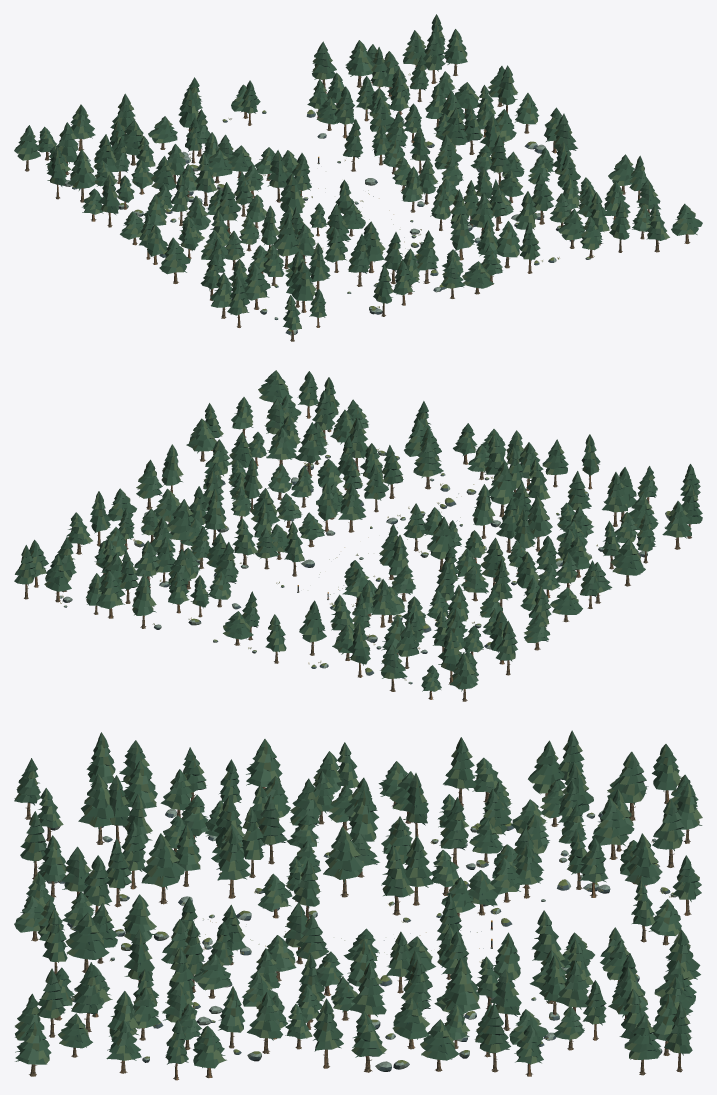
The model's file is woodland.glb.
The picture shows the model from 3 angles, top to bottom: view 1: azimuth 30°, elevation 25°; view 2: azimuth 150°, elevation 25°; view 3: azimuth 270°, elevation 25°; orthographic projection. The views are drawn at different scales.
Visible parts, largest first — view 1: Pine4, Pine40, Pine10, Pine124, Pine52, Pine109, Pine175, Pine25, Pine86, Pine111, Pine73, Pine65 (+43 smaller); view 2: Pine10, Pine76, Pine73, Pine142, Pine124, Pine52, Pine67, Pine12, Pine96, Pine93, Pine1, Pine111 (+53 smaller); view 3: Pine76, Pine73, Pine109, Pine142, Pine43, Pine40, Pine75, Pine15, Pine144, Pine67, Pine42, Pine4 (+124 smaller).
Boxes of the visible parts, left/top/right/bottom form: Pine4: left=67, top=149, right=96, bottom=202; Pine40: left=290, top=261, right=316, bottom=312; Pine10: left=159, top=237, right=190, bottom=283; Pine124: left=345, top=40, right=372, bottom=87; Pine52: left=273, top=216, right=300, bottom=269; Pine109: left=496, top=221, right=520, bottom=268; Pine175: left=671, top=203, right=702, bottom=243; Pine25: left=244, top=263, right=270, bottom=309; Pine86: left=415, top=230, right=438, bottom=283; Pine111: left=312, top=41, right=336, bottom=93; Pine73: left=279, top=174, right=305, bottom=213; Pine65: left=348, top=234, right=370, bottom=286; Pine10: left=611, top=538, right=645, bottom=586; Pine76: left=488, top=461, right=515, bottom=517; Pine73: left=427, top=517, right=457, bottom=571; Pine142: left=167, top=499, right=195, bottom=552; Pine124: left=96, top=570, right=125, bottom=618; Pine52: left=527, top=496, right=552, bottom=551; Pine67: left=299, top=600, right=326, bottom=655; Pine12: left=662, top=501, right=691, bottom=549; Pine96: left=413, top=441, right=443, bottom=489; Pine93: left=338, top=483, right=366, bottom=532; Pine1: left=449, top=652, right=478, bottom=701; Pine111: left=132, top=574, right=156, bottom=628; Pine76: left=141, top=833, right=184, bottom=904; Pine73: left=323, top=826, right=365, bottom=897; Pine109: left=65, top=912, right=109, bottom=973; Pine142: left=442, top=958, right=480, bottom=1014; Pine43: left=592, top=798, right=634, bottom=859; Pine40: left=78, top=774, right=114, bottom=844; Pine75: left=216, top=828, right=250, bottom=898; Pine15: left=611, top=751, right=648, bottom=820; Pine144: left=349, top=962, right=386, bottom=1018; Pine67: left=625, top=833, right=662, bottom=887; Pine42: left=652, top=798, right=684, bottom=867; Pine4: left=528, top=740, right=565, bottom=809.
Bounding box in the file's own units: 69.62 × 7.88 × 68.77.
Materials: 16 (7 with a texture image).
